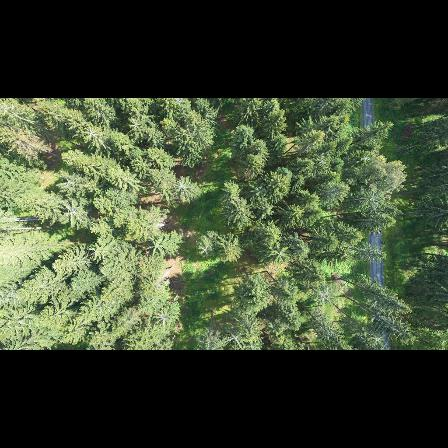Sick: (73, 121, 109, 147), (167, 176, 201, 201), (264, 242, 295, 268), (151, 306, 175, 330)
